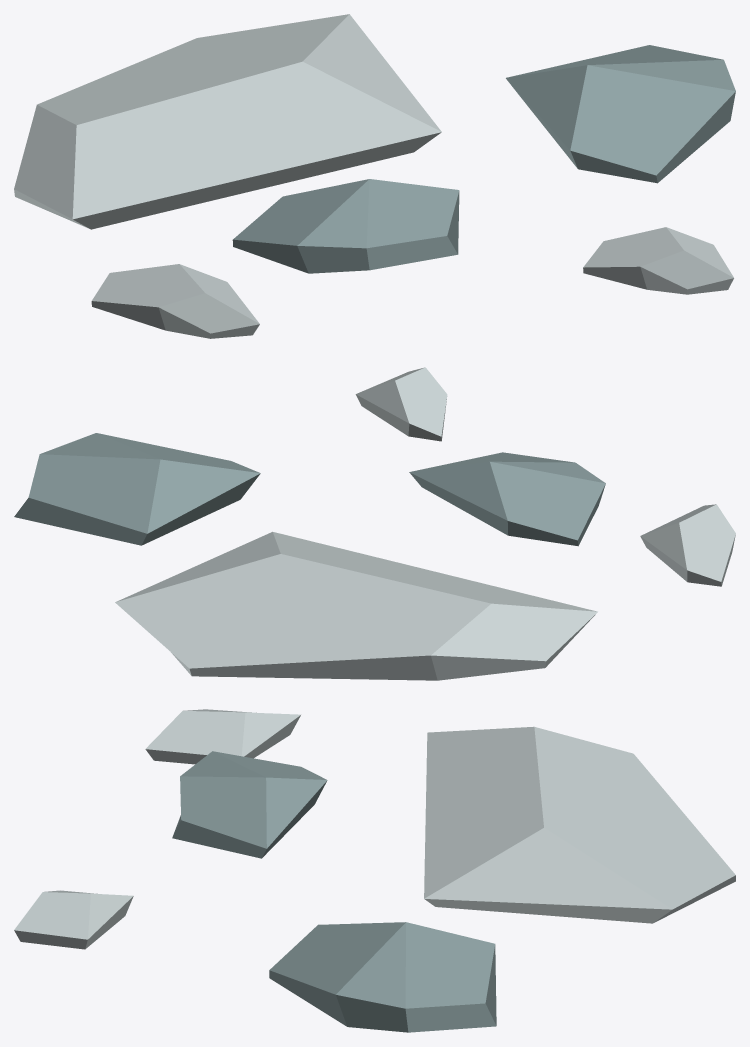
File: SM_Rock_B.fbx
3 renders of one model, top to bottom at view 1: azimuth 30°, elevation 25°; view 2: azimuth 150°, elevation 25°; view 3: azimuth 270°, elevation 25°, orthographic. The views are drawn at different scales.
Visible parts, largest first — view 1: Cube.021; view 2: Cube.021; view 3: Cube.021.
Boxes of the visible parts, x1=… form: Cube.021: x1=14, y1=14, x2=735, y2=338; Cube.021: x1=14, y1=367, x2=735, y2=680; Cube.021: x1=14, y1=709, x2=735, y2=1032.
Size of the model in its own units: 81.19 by 8.49 by 78.81.
